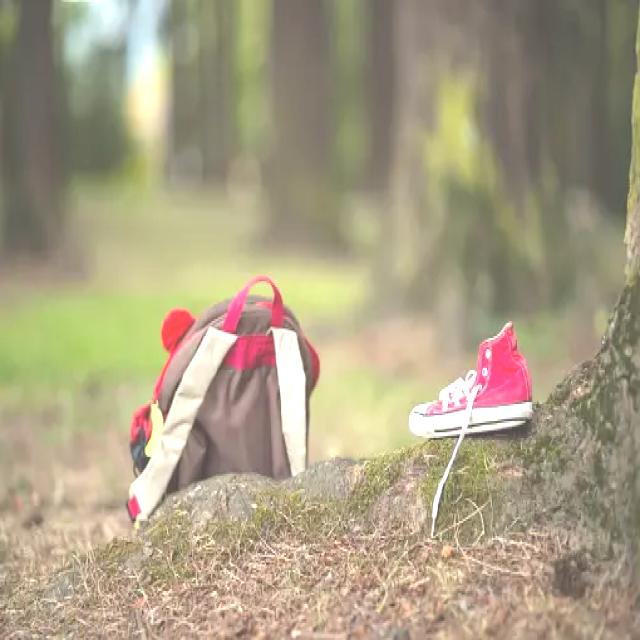backpack: (127, 275, 321, 528)
